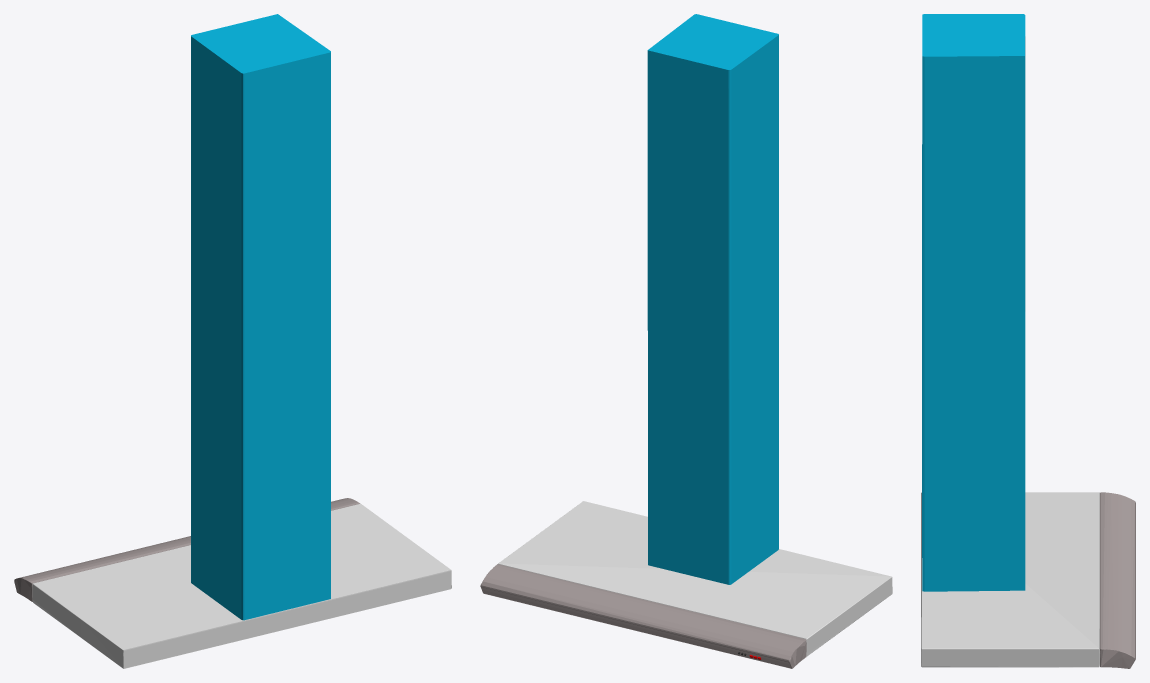
Rendered from OM_1BHK_R n DM_Kitchen_Exost.fbx.
The picture shows the model from 3 angles, left to right: view 1: azimuth 30°, elevation 25°; view 2: azimuth 150°, elevation 25°; view 3: azimuth 270°, elevation 25°; orthographic projection. The views are drawn at different scales.
Parts seen in each view (by area): view 1: OM_Kitchen_Exost_02_Steel, OM_Kitchen_Exost_02_White, OM_Kitchen_Exost_02_offwhite; view 2: OM_Kitchen_Exost_02_Steel, OM_Kitchen_Exost_02_White, OM_Kitchen_Exost_02_offwhite; view 3: OM_Kitchen_Exost_02_Steel, OM_Kitchen_Exost_02_White, OM_Kitchen_Exost_02_offwhite.
Boxes of the visible parts, x1,y1,x2,y2 form: OM_Kitchen_Exost_02_Steel: (191, 14, 330, 620); OM_Kitchen_Exost_02_White: (32, 503, 451, 668); OM_Kitchen_Exost_02_offwhite: (14, 498, 359, 601); OM_Kitchen_Exost_02_Steel: (647, 14, 778, 584); OM_Kitchen_Exost_02_White: (498, 501, 892, 656); OM_Kitchen_Exost_02_offwhite: (480, 564, 806, 668); OM_Kitchen_Exost_02_Steel: (922, 14, 1025, 591); OM_Kitchen_Exost_02_White: (921, 492, 1099, 667); OM_Kitchen_Exost_02_offwhite: (1100, 492, 1135, 668).
Size of the model in its own units: 3.02 by 4.98 by 1.75.
